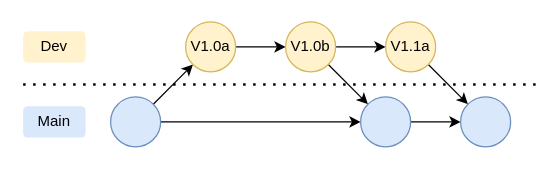
Some shapes in this 559 by 169 pixel diagram are drawn without their labels. Each missing label, with the centre of its shape:
V1.0: point (135, 121)
V1.1: point (385, 121)
V2: point (485, 121)
